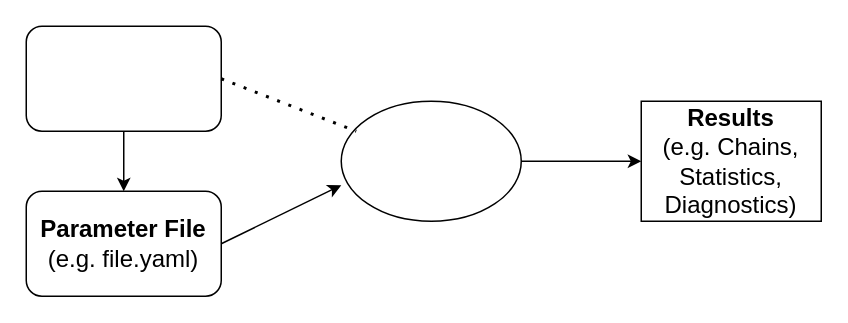
This 848x323 diagram has some shape labels left out. The shapes that lost their labels are listed below. From the top down, each one's box as (x1, y1, x2, y2) in pixels, then its label:
(25, 25, 221, 131): Log Likelihood (e.g. Python function)
(340, 100, 521, 221): cronus-run
